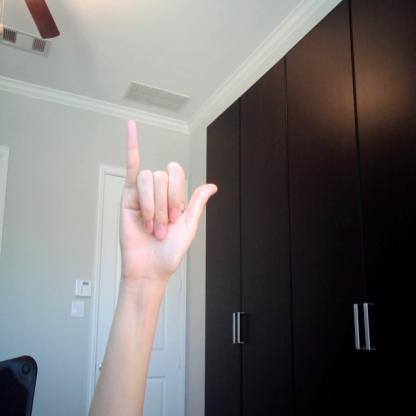Y: (115, 115, 220, 285)
